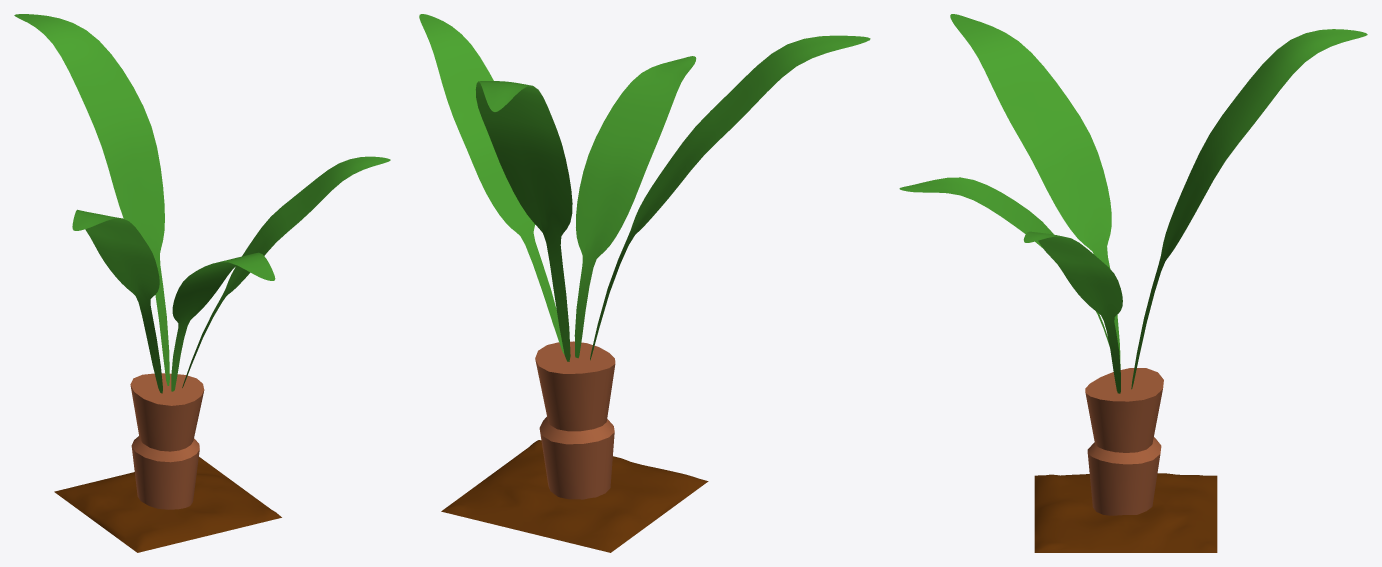
Rendered from oil-palm-p2-leaf.glb.
The picture shows the model from 3 angles, left to right: view 1: azimuth 30°, elevation 25°; view 2: azimuth 150°, elevation 25°; view 3: azimuth 270°, elevation 25°; orthographic projection. The views are drawn at different scales.
Parts seen in each view (by area): view 1: 2_nft_summer; view 2: 2_nft_summer; view 3: 2_nft_summer.
Boxes of the visible parts, x1,y1,x2,y2 form: 2_nft_summer: (14,14,390,552); 2_nft_summer: (419,14,870,552); 2_nft_summer: (899,14,1367,552).
Bounding box in the file's own units: 3.38 × 3.9 × 3.59.
